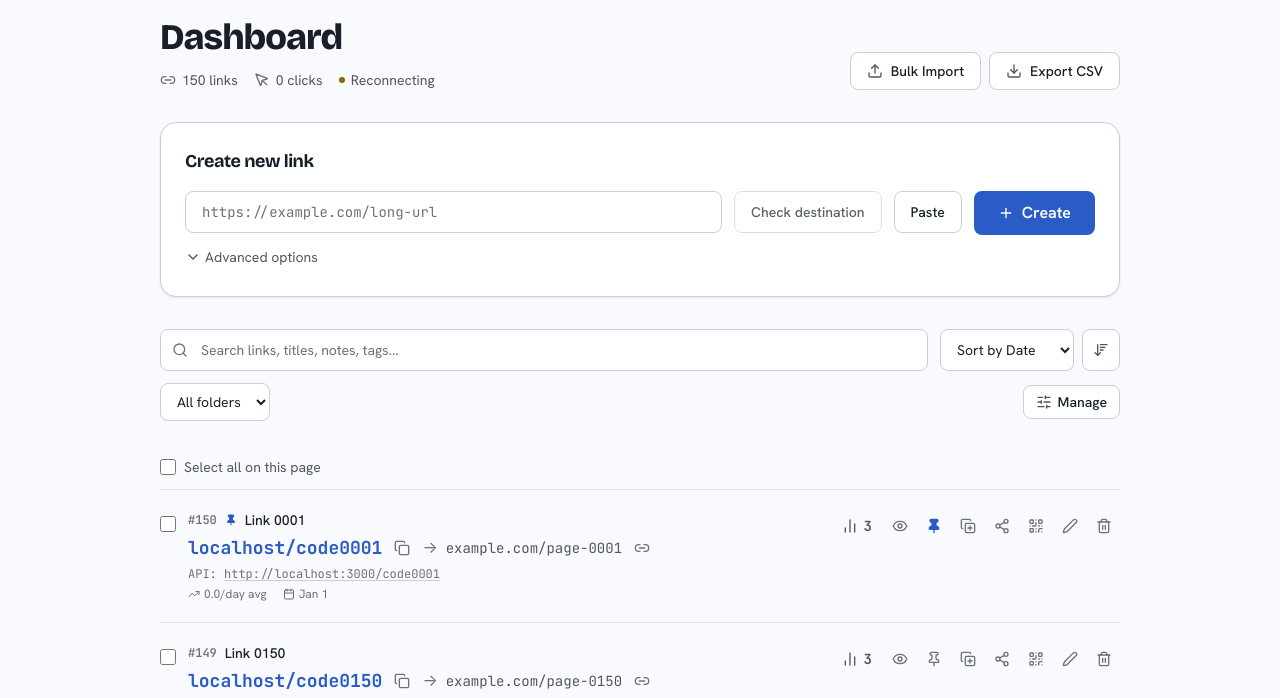
Test: Dashboard paging › reads the list again after an unpin, so Load more neither skips a link nor runs forever
Click the button named "Unpin link code0001" at (934, 526), box [918, 510, 950, 542]
(page scrolled)
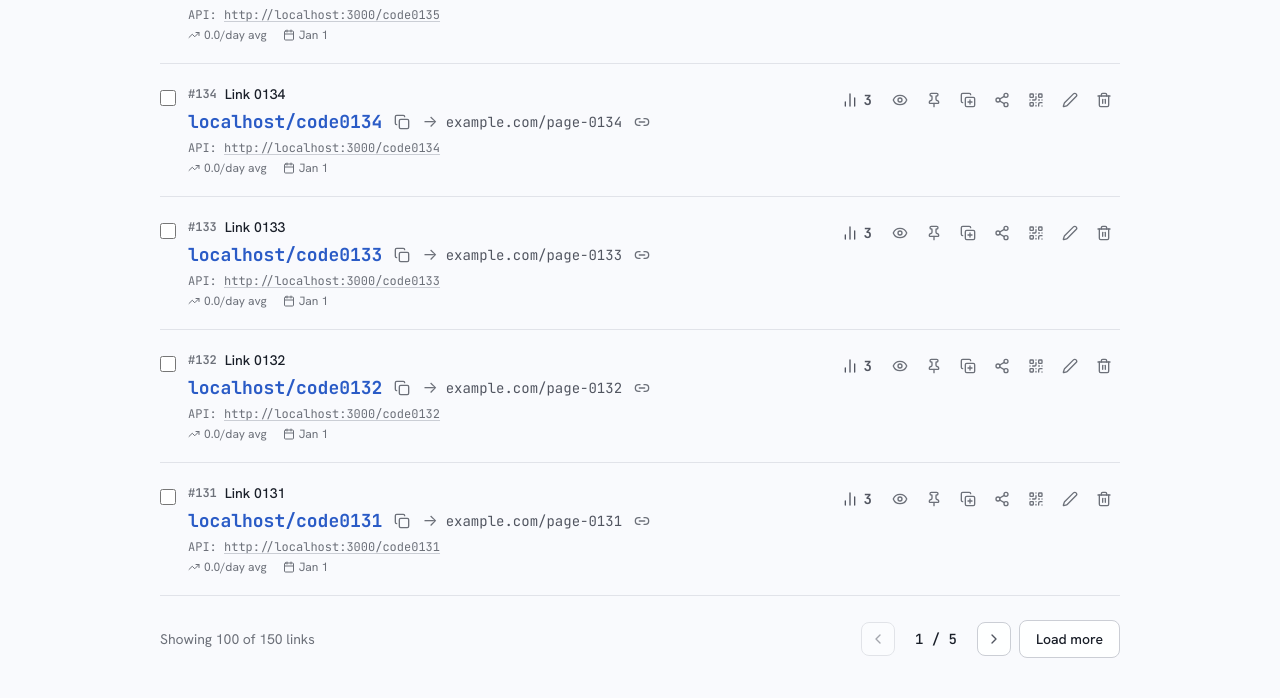
Click the button "Load more" at (1070, 639), box [1019, 620, 1120, 658]
(page scrolled)
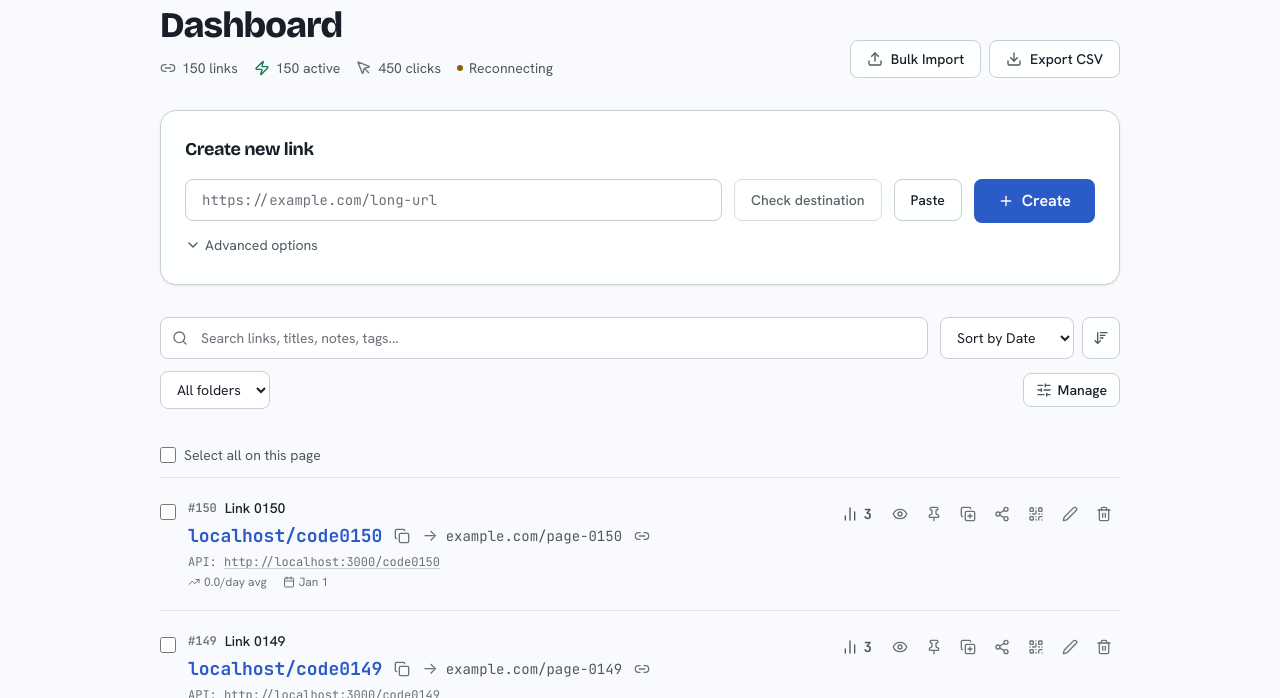
Expected: the button "Load more" is gone
Expected: the text "of 150 links" is gone
Type "Link 0051" into the search field labelled "Search links" at (544, 338), box [160, 317, 928, 359]
(page scrolled)
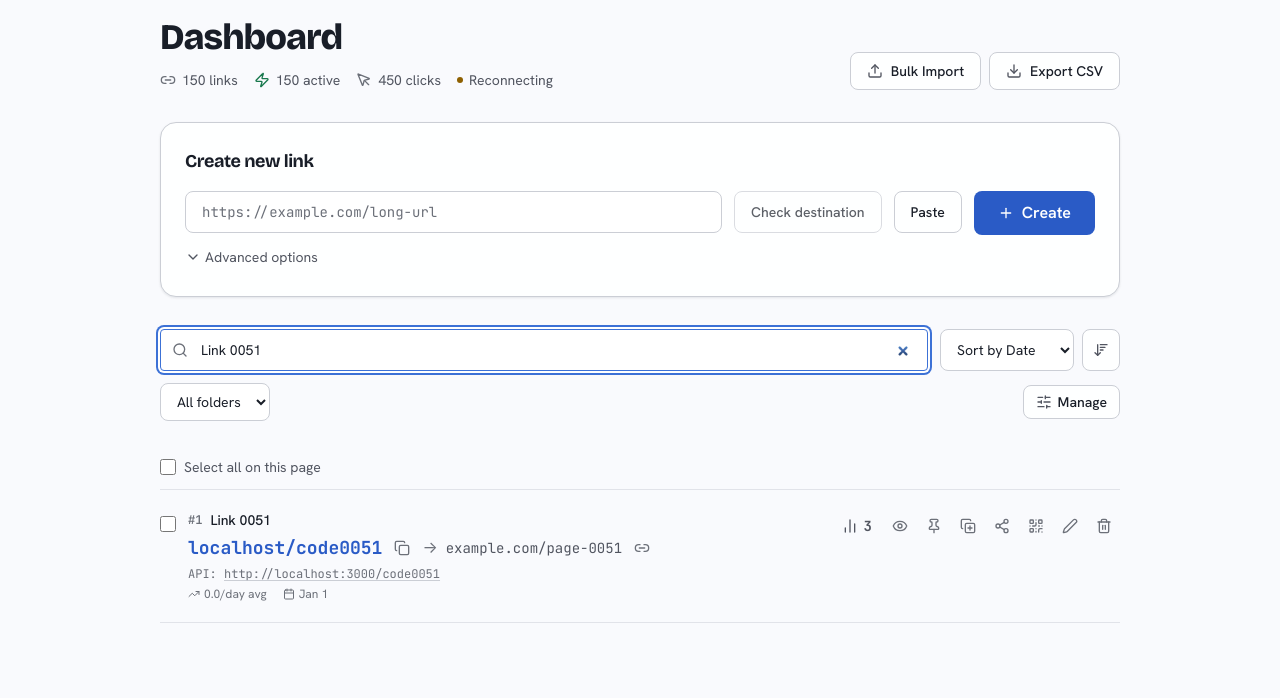
Expected: the text "Link 0051" is shown, [210, 510, 271, 530]
